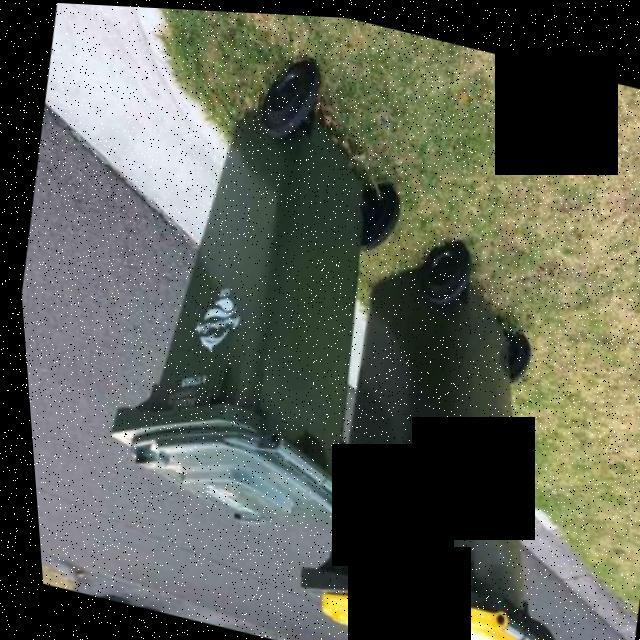bin: (62, 5, 451, 557), (252, 198, 629, 640)
